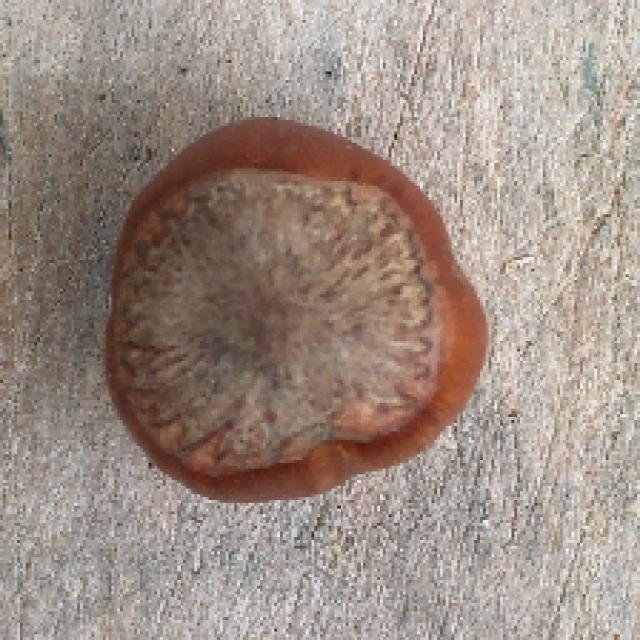qualityHazelnut: (96, 113, 492, 506)
